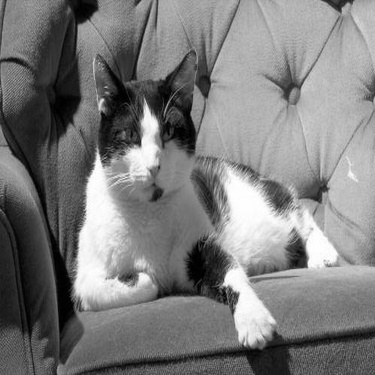cat: (74, 47, 340, 351)
